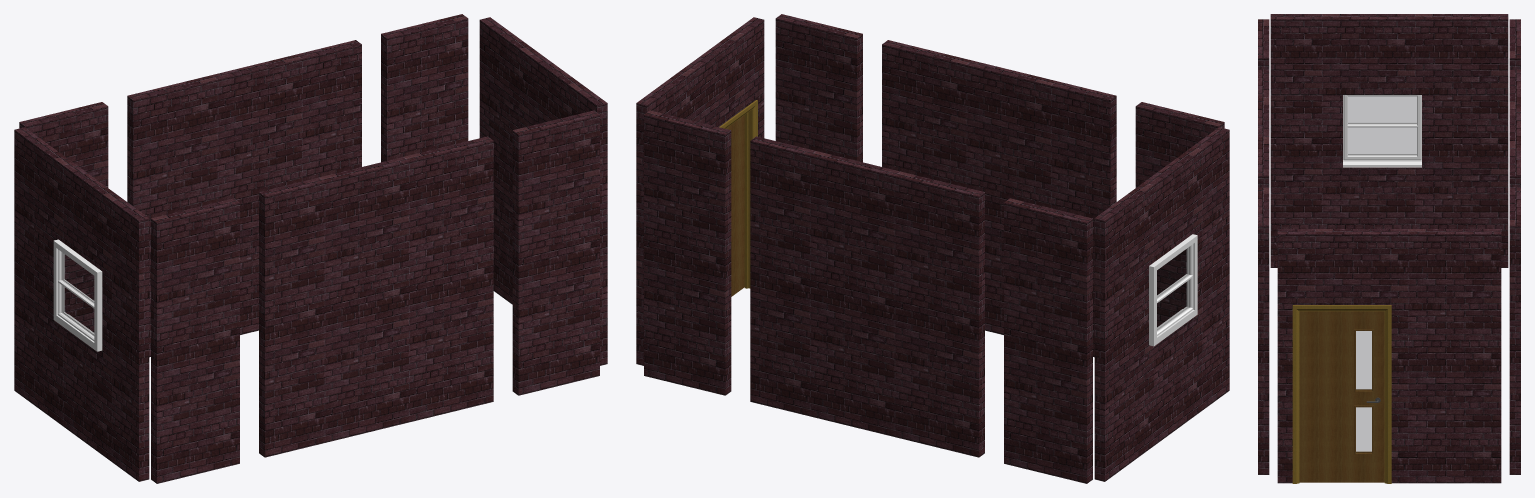
3 views of the same model, side by side, from view 1: azimuth 30°, elevation 25°; view 2: azimuth 150°, elevation 25°; view 3: azimuth 270°, elevation 25° (orthographic). The views are drawn at different scales.
Parts seen in each view (by area): view 1: Basic Wall Wall-Ext_215Bwk [673238]001, Basic Wall Wall-Ext_215Bwk [675494]001, Basic Wall Wall-Ext_215Bwk [672758]001, Basic Wall Wall-Ext_215Bwk [673400]001, Basic Wall Wall-Ext_215Bwk [673117]001, Basic Wall Wall-Ext_215Bwk [672977]001, Basic Wall Wall-Ext_215Bwk [672863]001, Basic Wall Wall-Ext_215Bwk [672609]001, Windows_SCO_Horz_Bar_Sgl 910x910mm [675572]001; view 2: Basic Wall Wall-Ext_215Bwk [672758]001, Basic Wall Wall-Ext_215Bwk [675494]001, Basic Wall Wall-Ext_215Bwk [673238]001, Basic Wall Wall-Ext_215Bwk [672609]001, Basic Wall Wall-Ext_215Bwk [672863]001, Basic Wall Wall-Ext_215Bwk [673117]001, Basic Wall Wall-Ext_215Bwk [672977]001, Basic Wall Wall-Ext_215Bwk [673400]001, Windows_SCO_Horz_Bar_Sgl 910x910mm [675572]001, Doors_IntSgl_3 1010x2110mm [673442]001; view 3: Basic Wall Wall-Ext_215Bwk [675494]001, Basic Wall Wall-Ext_215Bwk [672977]001, Doors_IntSgl_3 1010x2110mm [673442]001, Windows_SCO_Horz_Bar_Sgl 910x910mm [675572]001, Basic Wall Wall-Ext_215Bwk [672863]001, Basic Wall Wall-Ext_215Bwk [673117]001, Basic Wall Wall-Ext_215Bwk [672758]001, Basic Wall Wall-Ext_215Bwk [673238]001, Basic Wall Wall-Ext_215Bwk [672609]001, Basic Wall Wall-Ext_215Bwk [673400]001.
Part boxes in pixels (x1,y1,x2,y2): Basic Wall Wall-Ext_215Bwk [673238]001: [259, 136, 493, 457]; Basic Wall Wall-Ext_215Bwk [675494]001: [14, 127, 149, 481]; Basic Wall Wall-Ext_215Bwk [672758]001: [127, 40, 361, 357]; Basic Wall Wall-Ext_215Bwk [673400]001: [151, 198, 239, 483]; Basic Wall Wall-Ext_215Bwk [673117]001: [512, 110, 599, 395]; Basic Wall Wall-Ext_215Bwk [672977]001: [479, 17, 607, 365]; Basic Wall Wall-Ext_215Bwk [672863]001: [381, 14, 468, 162]; Basic Wall Wall-Ext_215Bwk [672609]001: [19, 102, 108, 332]; Windows_SCO_Horz_Bar_Sgl 910x910mm [675572]001: [53, 239, 102, 351]; Basic Wall Wall-Ext_215Bwk [672758]001: [750, 136, 984, 457]; Basic Wall Wall-Ext_215Bwk [675494]001: [1094, 127, 1229, 481]; Basic Wall Wall-Ext_215Bwk [673238]001: [882, 40, 1116, 357]; Basic Wall Wall-Ext_215Bwk [672609]001: [1004, 198, 1092, 483]; Basic Wall Wall-Ext_215Bwk [672863]001: [644, 110, 731, 395]; Basic Wall Wall-Ext_215Bwk [673117]001: [775, 14, 862, 162]; Basic Wall Wall-Ext_215Bwk [672977]001: [636, 17, 764, 365]; Basic Wall Wall-Ext_215Bwk [673400]001: [1135, 102, 1224, 327]; Windows_SCO_Horz_Bar_Sgl 910x910mm [675572]001: [1149, 234, 1197, 346]; Doors_IntSgl_3 1010x2110mm [673442]001: [719, 100, 757, 296]; Basic Wall Wall-Ext_215Bwk [675494]001: [1270, 14, 1508, 267]; Basic Wall Wall-Ext_215Bwk [672977]001: [1277, 229, 1501, 483]; Doors_IntSgl_3 1010x2110mm [673442]001: [1292, 305, 1391, 483]; Windows_SCO_Horz_Bar_Sgl 910x910mm [675572]001: [1343, 95, 1421, 167]; Basic Wall Wall-Ext_215Bwk [672863]001: [1509, 187, 1520, 474]; Basic Wall Wall-Ext_215Bwk [673117]001: [1258, 187, 1269, 474]; Basic Wall Wall-Ext_215Bwk [672758]001: [1509, 69, 1520, 187]; Basic Wall Wall-Ext_215Bwk [673238]001: [1258, 69, 1269, 187]; Basic Wall Wall-Ext_215Bwk [672609]001: [1509, 19, 1520, 69]; Basic Wall Wall-Ext_215Bwk [673400]001: [1258, 19, 1269, 69].
Bounding box in the file's own units: 5.8 × 3 × 2.87.
Materials: 8 (4 with a texture image).
